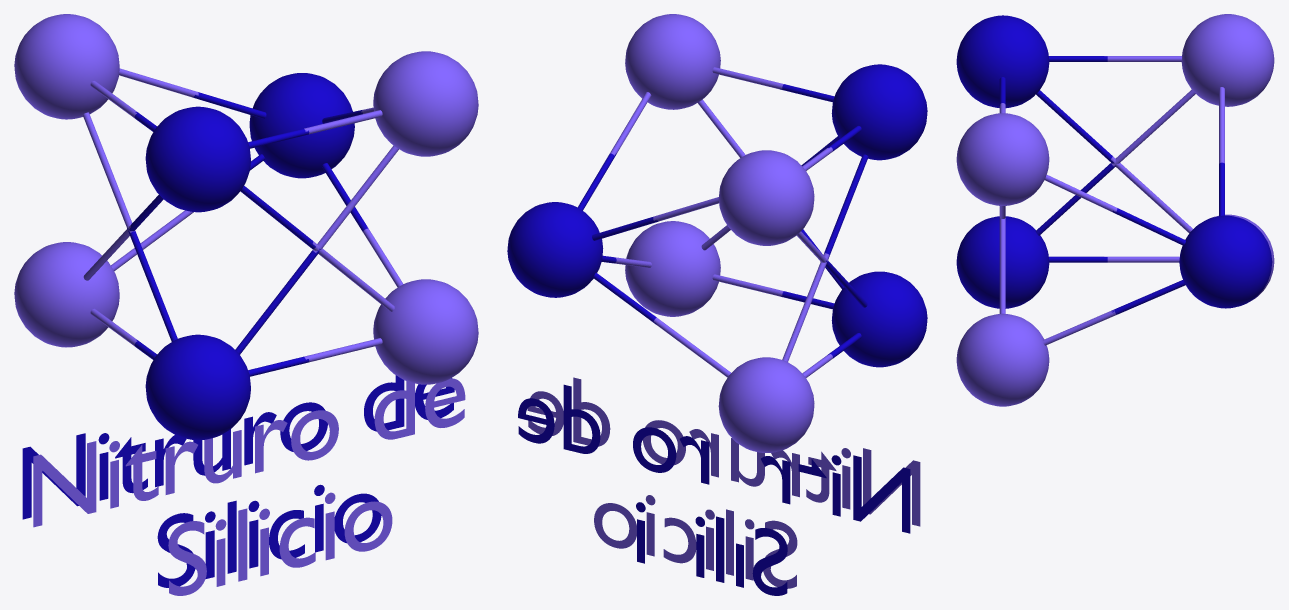
File: nitruro de silicio.glb
The picture shows the model from 3 angles, left to right: view 1: azimuth 30°, elevation 25°; view 2: azimuth 150°, elevation 25°; view 3: azimuth 270°, elevation 25°; orthographic projection. The views are drawn at different scales.
Visible parts, largest first — view 1: Text.008, Text.007, Sphere.205, Sphere.228, Sphere.209, Sphere.230, Sphere.257, Sphere.271, Sphere.250, Cylinder.700, Cylinder.717, Cylinder.815 (+5 smaller); view 2: Text.008, Text.007, Sphere.257, Sphere.271, Sphere.250, Sphere.209, Sphere.205, Sphere.230, Sphere.228, Cylinder.754, Cylinder.751, Cylinder.848; view 3: Sphere.209, Sphere.250, Sphere.230, Sphere.257, Sphere.205, Sphere.228, Cylinder.815, Cylinder.754, Cylinder.699, Cylinder.751, Cylinder.804, Cylinder.822 (+6 smaller).
Part boxes in pixels (left/top/right/bottom): Text.008: left=33, top=378, right=465, bottom=595; Text.007: left=22, top=375, right=454, bottom=587; Sphere.205: left=145, top=106, right=250, bottom=212; Sphere.228: left=145, top=334, right=250, bottom=440; Sphere.209: left=373, top=51, right=478, bottom=156; Sphere.230: left=373, top=279, right=478, bottom=384; Sphere.257: left=14, top=14, right=119, bottom=119; Sphere.271: left=14, top=242, right=119, bottom=347; Sphere.250: left=249, top=73, right=354, bottom=178; Cylinder.700: left=235, top=248, right=320, bottom=354; Cylinder.717: left=312, top=146, right=398, bottom=252; Cylinder.815: left=82, top=112, right=135, bottom=232; Text.008: left=527, top=377, right=920, bottom=588; Text.007: left=518, top=384, right=910, bottom=595; Sphere.257: left=718, top=150, right=814, bottom=245; Sphere.271: left=718, top=357, right=814, bottom=452; Sphere.250: left=507, top=202, right=603, bottom=297; Sphere.209: left=625, top=14, right=720, bottom=109; Sphere.205: left=831, top=64, right=927, bottom=160; Sphere.230: left=625, top=221, right=720, bottom=316; Sphere.228: left=831, top=271, right=927, bottom=367; Cylinder.754: left=782, top=253, right=829, bottom=361; Cylinder.751: left=824, top=154, right=868, bottom=259; Cylinder.848: left=653, top=317, right=730, bottom=377; Sphere.209: left=956, top=113, right=1049, bottom=205; Sphere.250: left=1179, top=215, right=1272, bottom=308; Sphere.230: left=956, top=313, right=1049, bottom=406; Sphere.257: left=1181, top=14, right=1274, bottom=106; Sphere.205: left=956, top=15, right=1049, bottom=108; Sphere.228: left=956, top=216, right=1049, bottom=308; Cylinder.815: left=1111, top=89, right=1195, bottom=166; Cylinder.754: left=1111, top=156, right=1192, bottom=233; Cylinder.699: left=999, top=218, right=1005, bottom=313; Cylinder.751: left=1036, top=90, right=1113, bottom=163; Cylinder.804: left=1035, top=163, right=1115, bottom=235; Cylinder.822: left=1043, top=310, right=1116, bottom=345.
Bounding box in the file's own units: 5.06 × 6.03 × 3.66.
